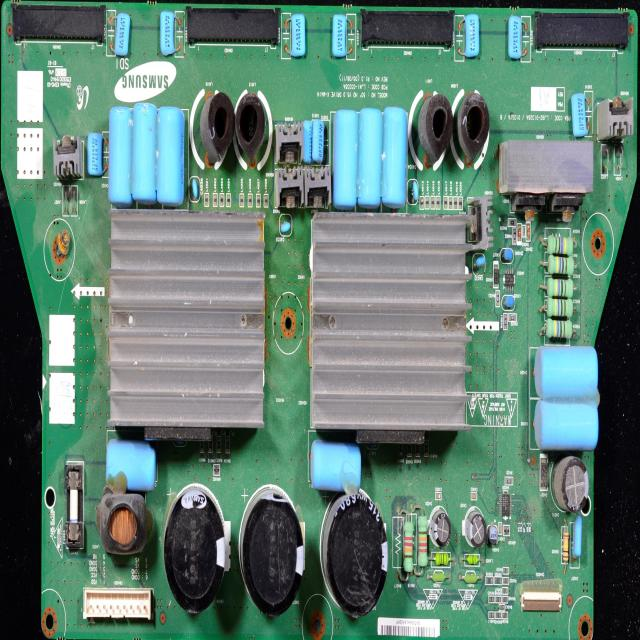Capacitor Jumper: (242, 493, 304, 623), (325, 495, 387, 617), (166, 491, 222, 612), (308, 434, 366, 498), (534, 346, 600, 402), (534, 402, 600, 452), (105, 436, 158, 494), (158, 107, 186, 206), (333, 109, 358, 209), (108, 108, 134, 203), (358, 106, 382, 208), (384, 106, 406, 209), (134, 102, 156, 200), (558, 456, 590, 516), (466, 508, 488, 551), (110, 15, 132, 58), (86, 133, 107, 178), (160, 12, 181, 56), (571, 91, 590, 137), (431, 512, 452, 550), (314, 119, 326, 162), (572, 515, 582, 565), (304, 118, 313, 163), (487, 522, 498, 548), (189, 180, 199, 202), (503, 296, 516, 312), (474, 256, 487, 271), (410, 180, 418, 203), (281, 216, 290, 234), (469, 484, 478, 501), (434, 482, 442, 501), (502, 249, 513, 262), (498, 521, 502, 536)
Connector: (83, 586, 153, 624), (520, 592, 563, 612)
IC: (498, 489, 512, 520), (504, 265, 516, 293)
Resistor Jumper: (396, 501, 415, 584), (538, 226, 578, 254), (540, 252, 580, 278), (539, 317, 579, 341), (416, 498, 428, 571), (540, 296, 580, 317), (540, 277, 581, 297), (562, 526, 569, 569), (222, 434, 232, 458), (206, 435, 215, 460), (199, 434, 206, 466), (216, 433, 223, 459), (424, 438, 430, 463), (398, 442, 404, 463), (512, 226, 518, 244), (526, 221, 531, 241), (508, 312, 518, 322), (407, 442, 412, 460), (416, 441, 420, 463), (503, 313, 508, 328), (485, 576, 494, 584), (507, 217, 516, 224), (506, 475, 512, 485), (495, 594, 501, 604), (494, 577, 502, 584), (495, 291, 499, 305), (502, 596, 508, 604), (502, 611, 508, 619), (503, 568, 509, 575), (496, 611, 501, 619), (502, 588, 508, 594), (489, 596, 494, 603), (504, 576, 508, 584), (490, 612, 494, 620), (500, 604, 504, 610)
iC: (143, 578, 144, 578)
